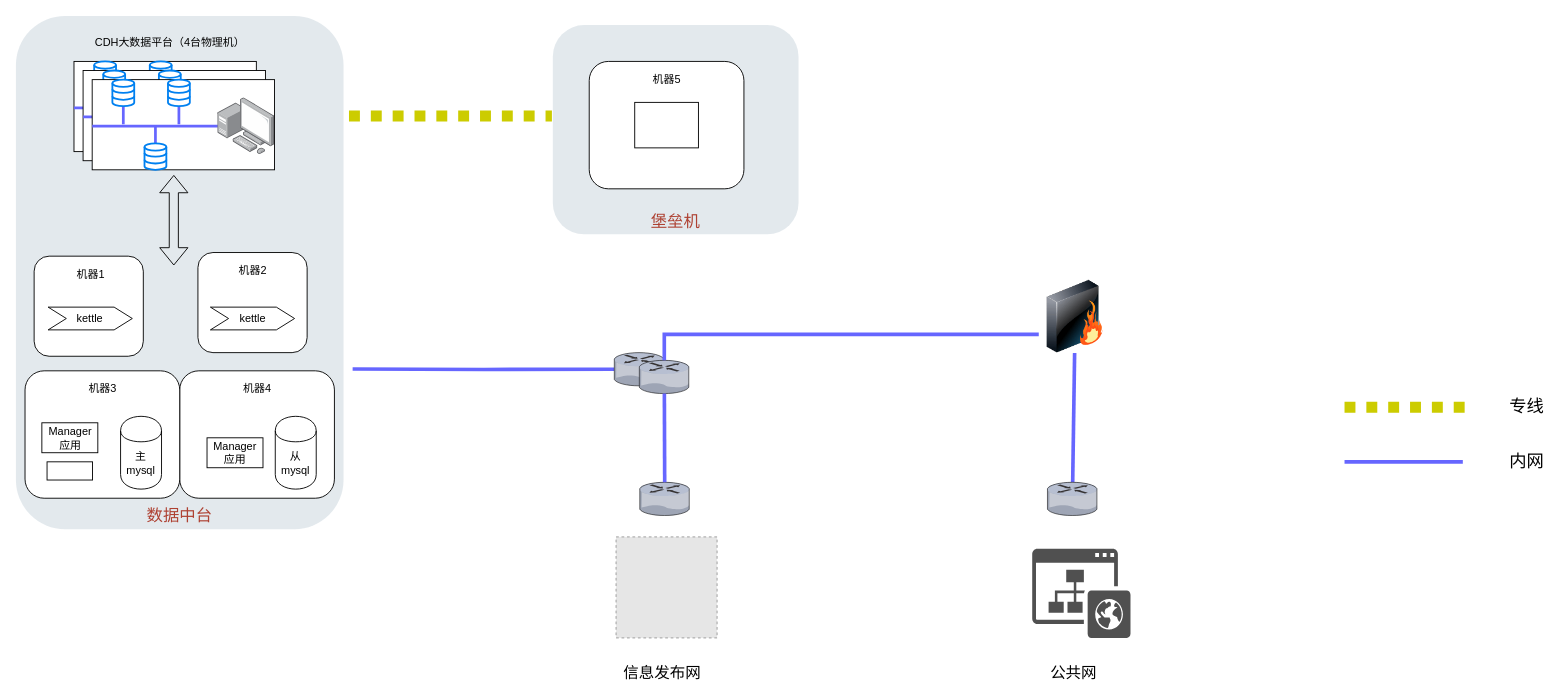
Image size: 1564x698. Some labels were removed from this diagram. Grey dashed boxes stand in for pictures. The centre of each missing label's shape, as x and y in pixels:
"nginx" goes at [69,470].
"跳板机" goes at [666,124].
